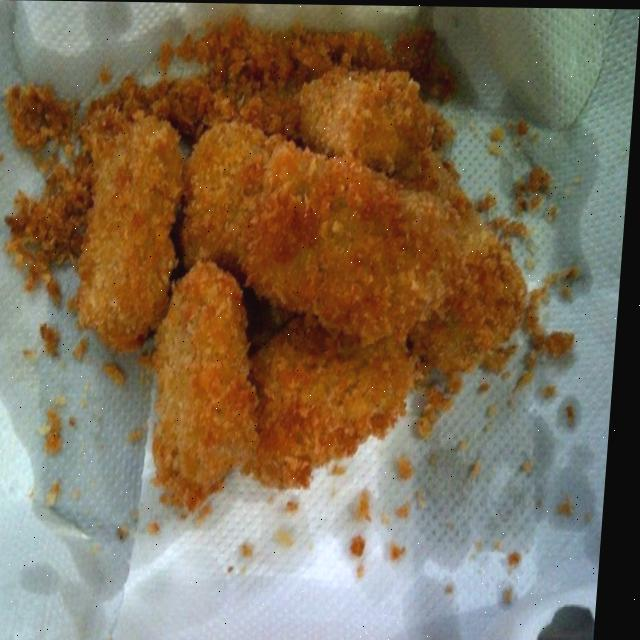鸡肉料理 含炸鸡: (55, 44, 529, 478)
